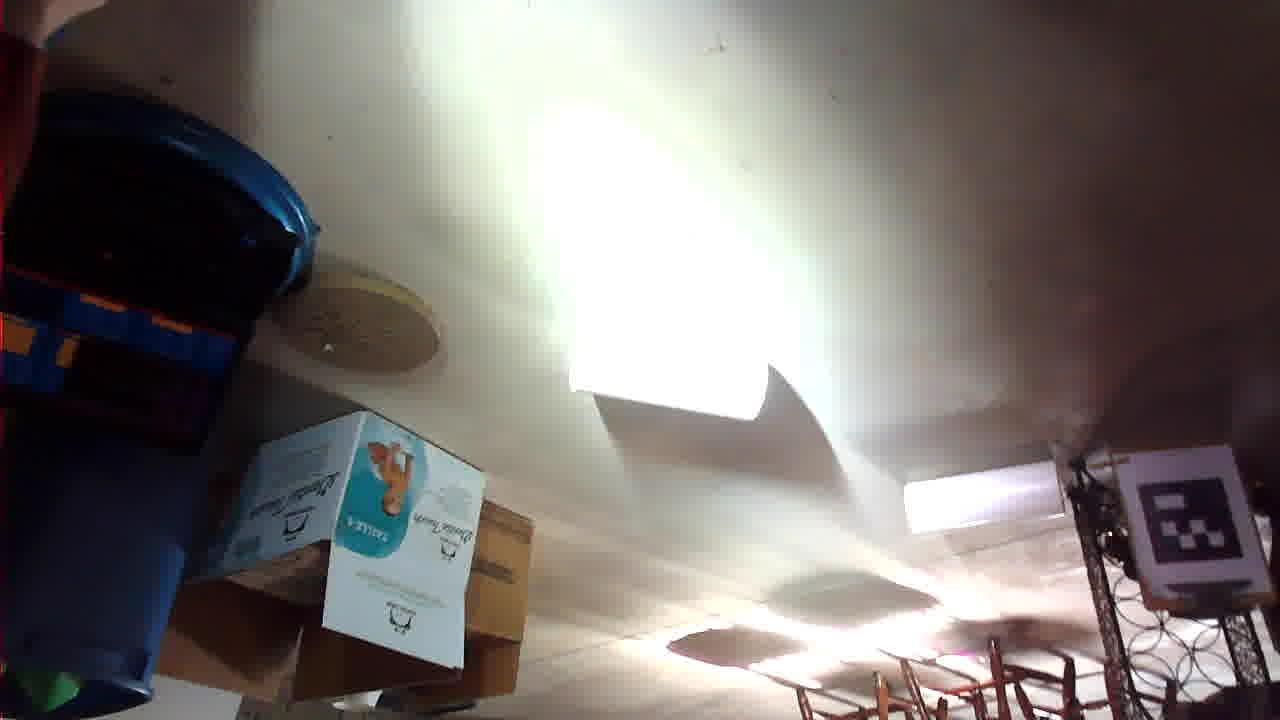coral: (510, 297, 712, 399), (215, 184, 378, 263)
